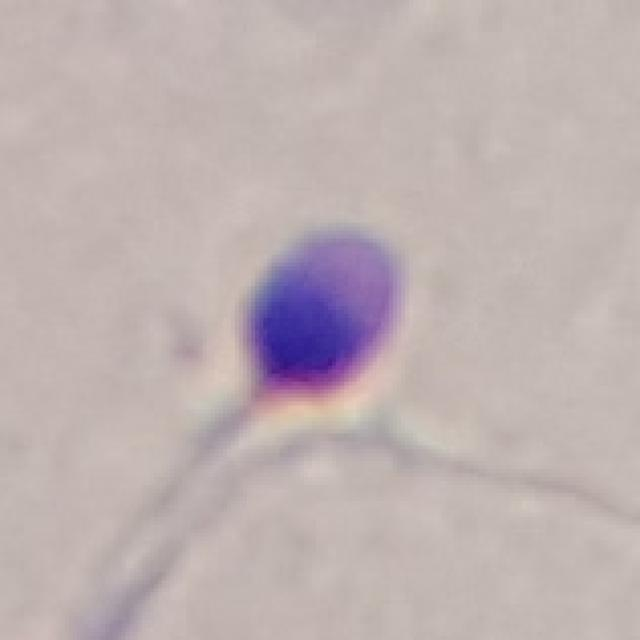normal sperm: (181, 225, 398, 486)
